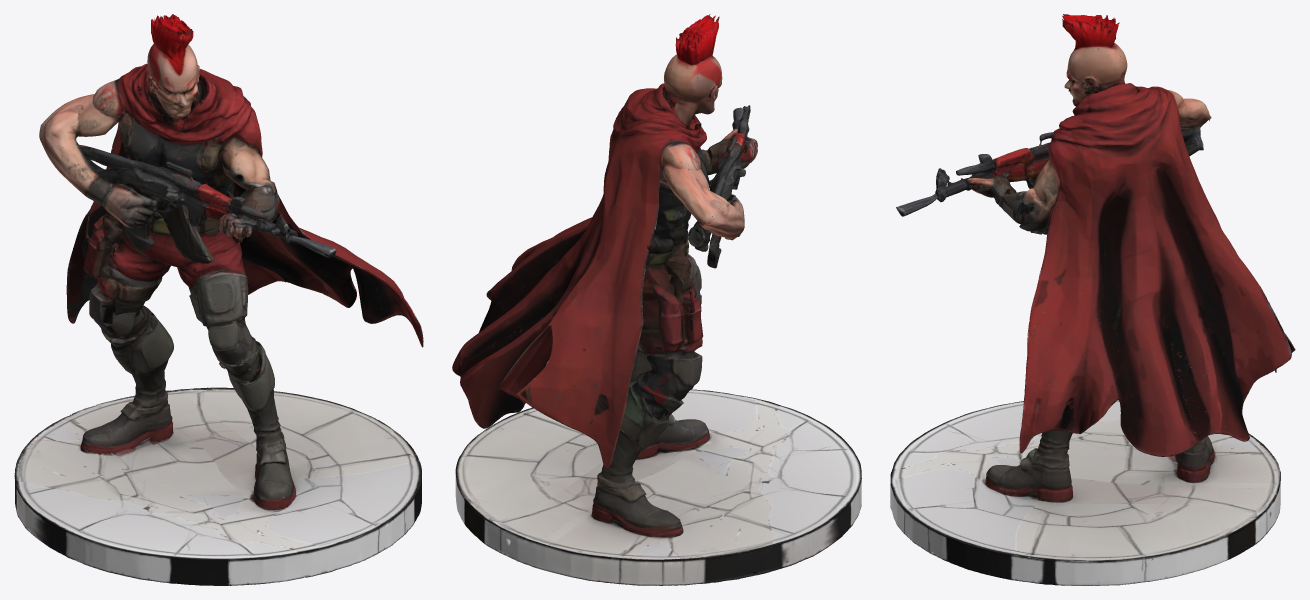
Rendered from Warrior_Rebel.glb.
3 views of the same model, side by side, from view 1: azimuth 30°, elevation 25°; view 2: azimuth 150°, elevation 25°; view 3: azimuth 270°, elevation 25° (orthographic). The views are drawn at different scales.
Bounding box in the file's own units: 1.5 × 1.98 × 1.56.
1 material, 1 textured.
